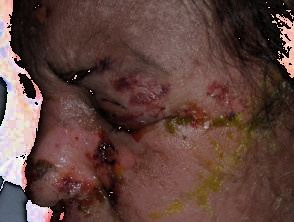SJS-TEN: (8, 0, 294, 222)
